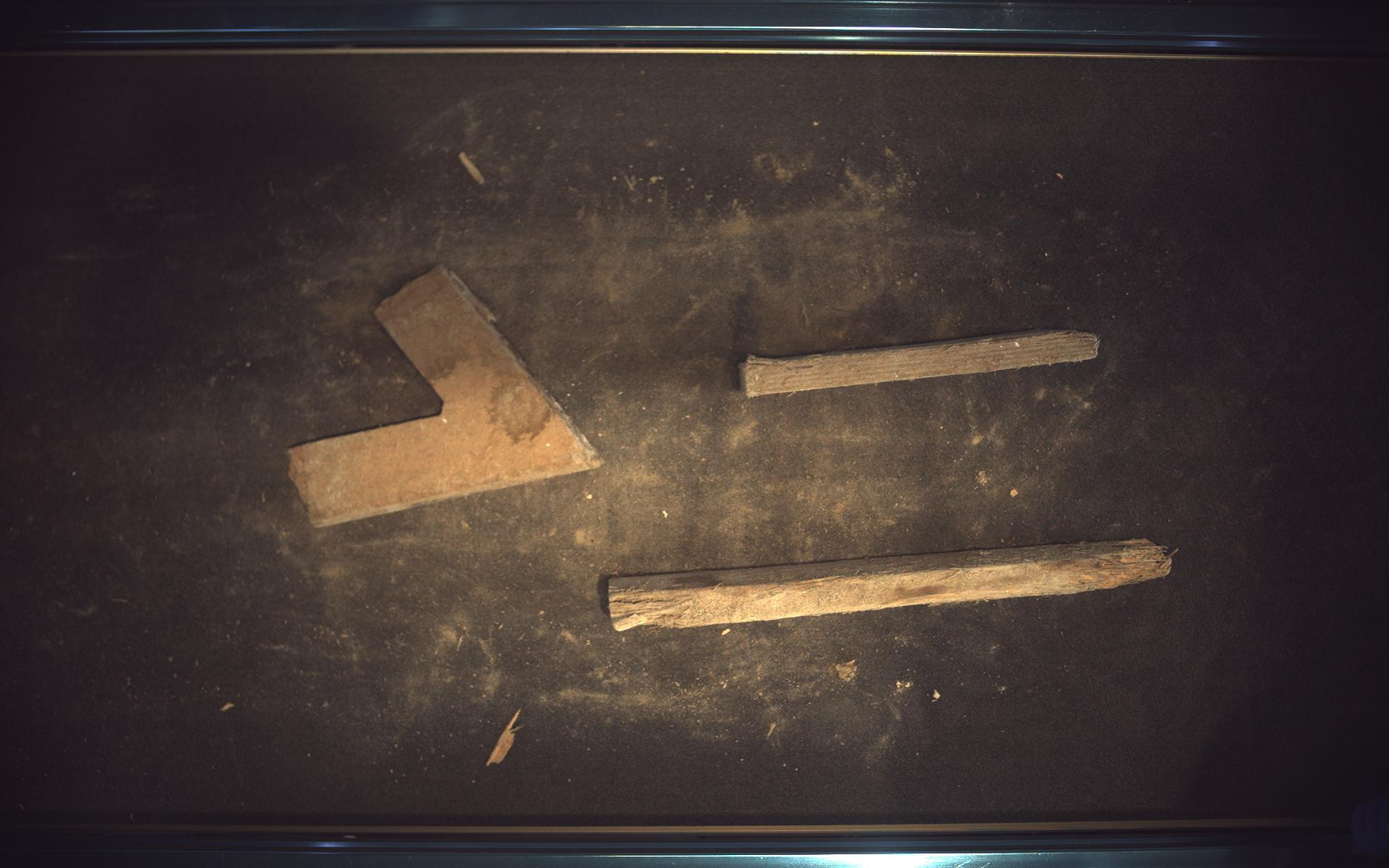wood: (289, 265, 602, 527), (609, 540, 1174, 632), (741, 330, 1102, 397)
